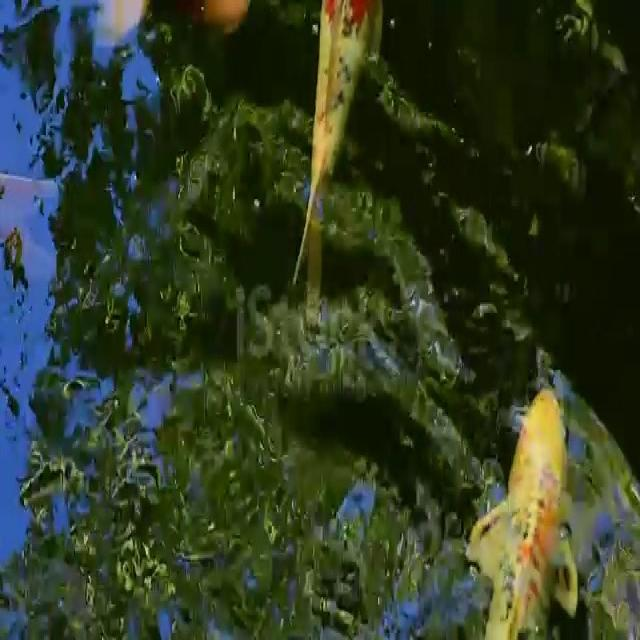fish: (469, 318, 583, 640), (303, 0, 395, 316)
